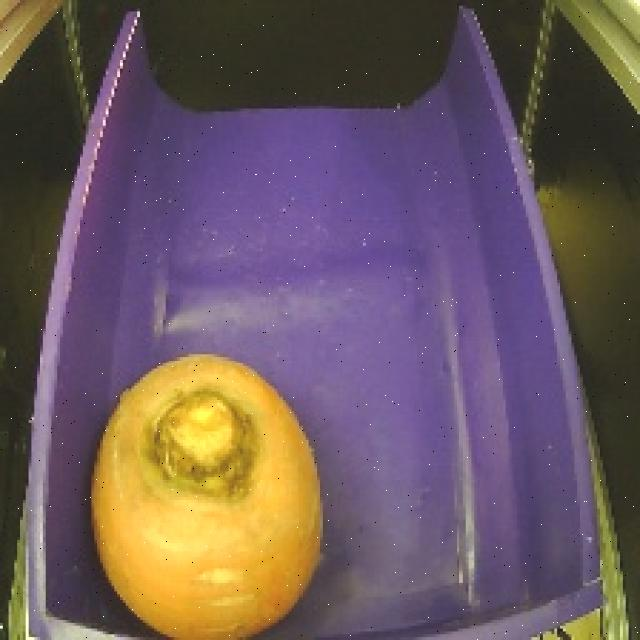carrots: (82, 346, 343, 640)
